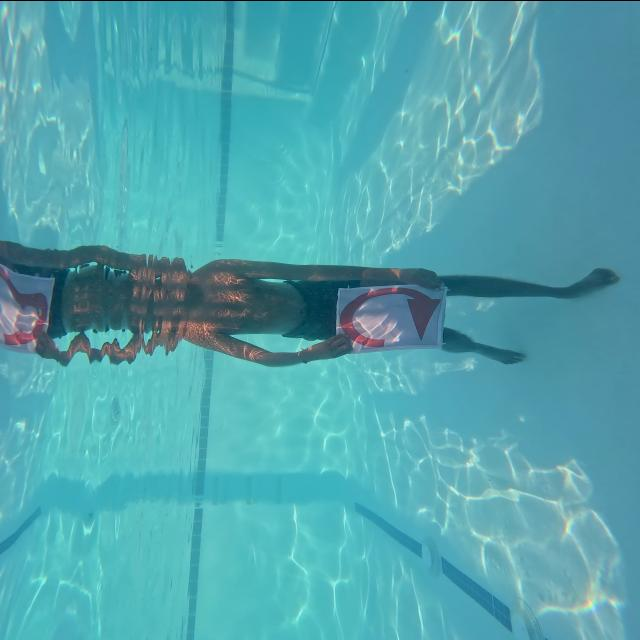red_side: (316, 275, 448, 361)
